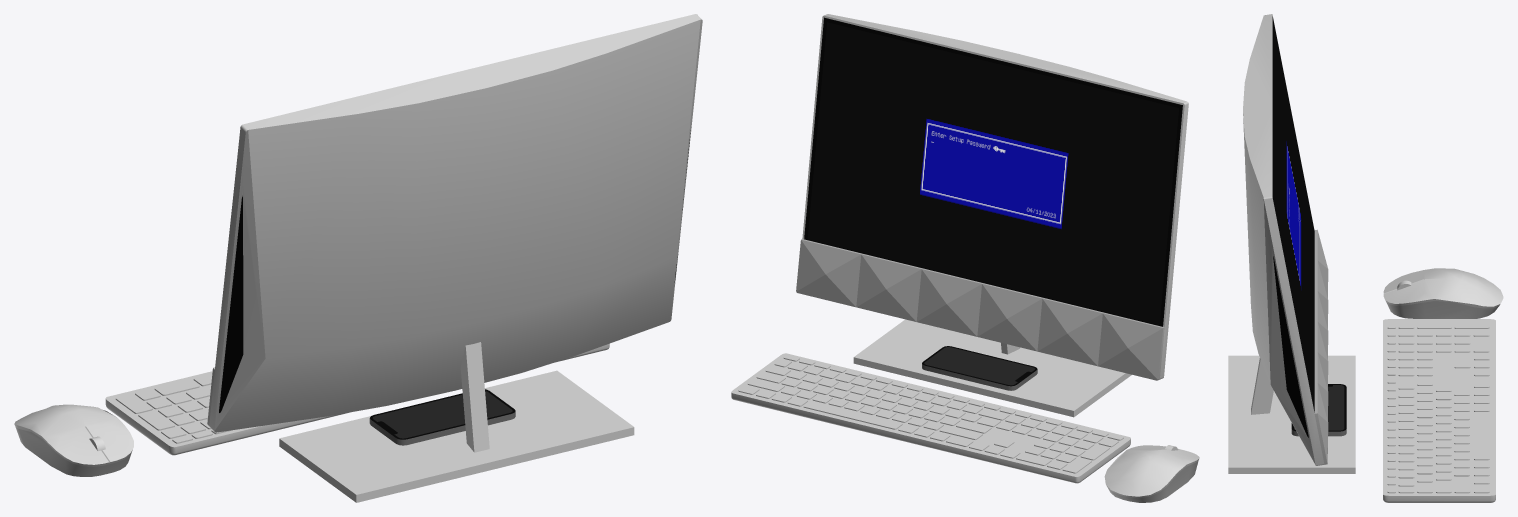
The model's file is all-in-one_desktop_computer_and_smartphone.glb.
3 views of the same model, side by side, from view 1: azimuth 30°, elevation 25°; view 2: azimuth 150°, elevation 25°; view 3: azimuth 270°, elevation 25° (orthographic). The views are drawn at different scales.
Visible parts, largest first — view 1: Cube_0, Cube.001_3, Cube.003_6, Cube.007_5, Cube.004_7, Cube.002_4; view 2: Cube_0, Cube.007_5, Cube.001_3, Cube.002_4, Cube.003_6, Cube.004_7; view 3: Cube_0, Cube.007_5, Cube.001_3, Cube.002_4, Cube.003_6, Cube.004_7.
Boxes of the visible parts, bbox=[...] form: Cube_0: bbox=[207, 14, 702, 432]; Cube.001_3: bbox=[279, 342, 634, 502]; Cube.003_6: bbox=[14, 404, 133, 476]; Cube.007_5: bbox=[115, 374, 231, 443]; Cube.004_7: bbox=[369, 389, 515, 445]; Cube.002_4: bbox=[105, 343, 609, 455]; Cube_0: bbox=[796, 14, 1188, 380]; Cube.007_5: bbox=[738, 355, 1123, 473]; Cube.001_3: bbox=[853, 319, 1131, 417]; Cube.002_4: bbox=[731, 353, 1130, 483]; Cube.003_6: bbox=[1104, 445, 1199, 502]; Cube.004_7: bbox=[922, 346, 1037, 390]; Cube_0: bbox=[1243, 14, 1328, 465]; Cube.007_5: bbox=[1387, 321, 1489, 493]; Cube.001_3: bbox=[1228, 355, 1355, 473]; Cube.002_4: bbox=[1383, 319, 1495, 502]; Cube.003_6: bbox=[1383, 268, 1503, 318]; Cube.004_7: bbox=[1291, 384, 1346, 436].
Bounding box in the file's own units: 1.54 × 1.02 × 0.7975.
8 materials, 1 textured.
